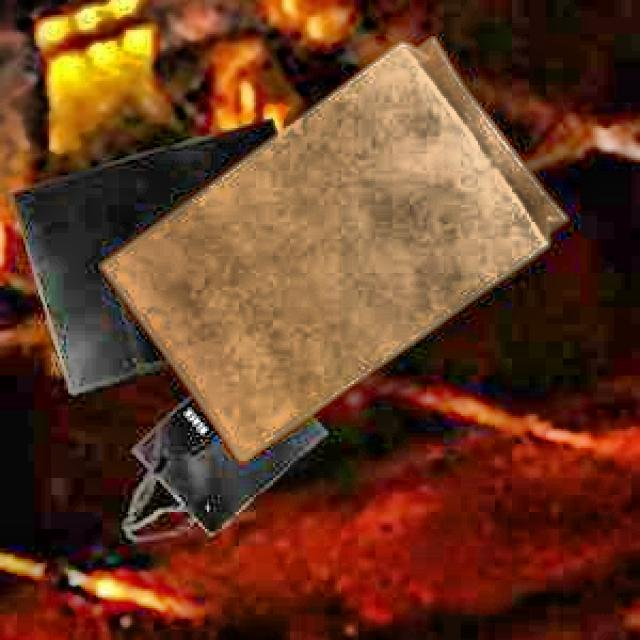Paper-bag: (106, 26, 570, 474)
